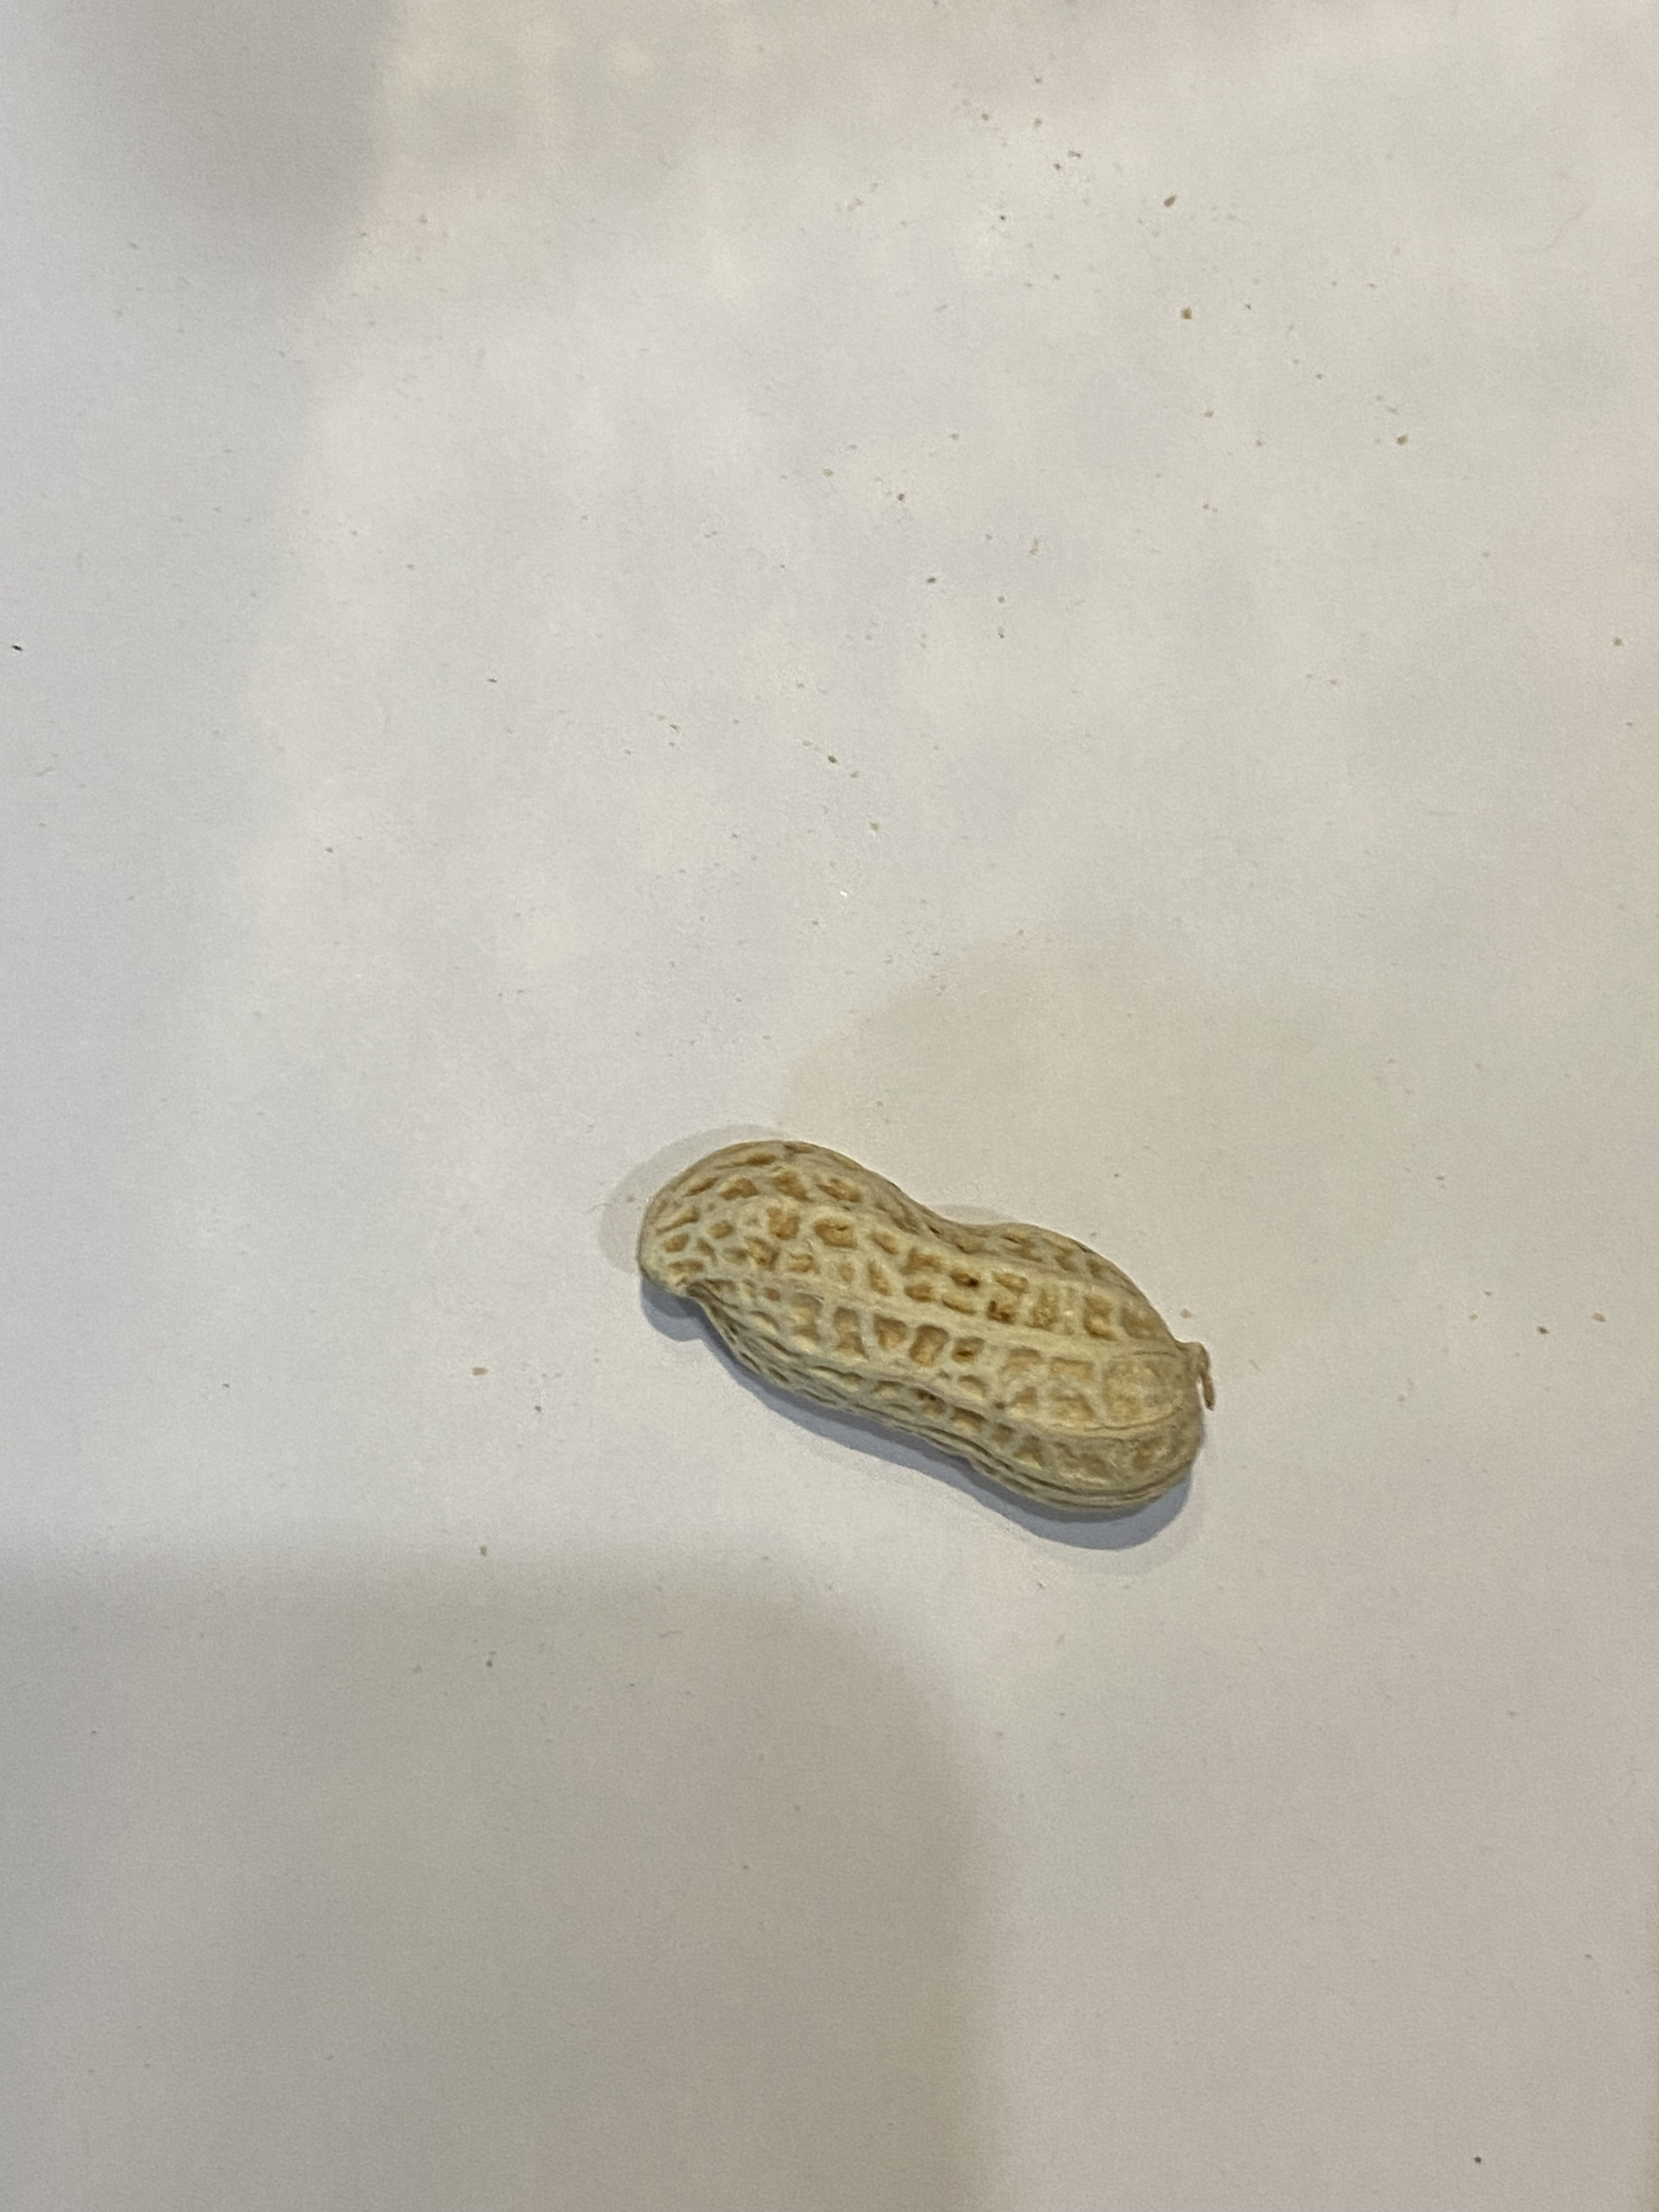kacang2: (626, 1120, 1222, 1527)
